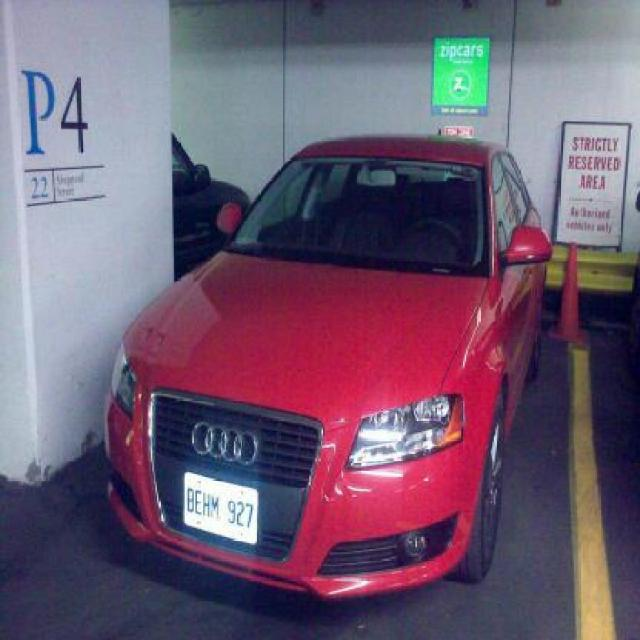License-Plates: (183, 471, 260, 548)
